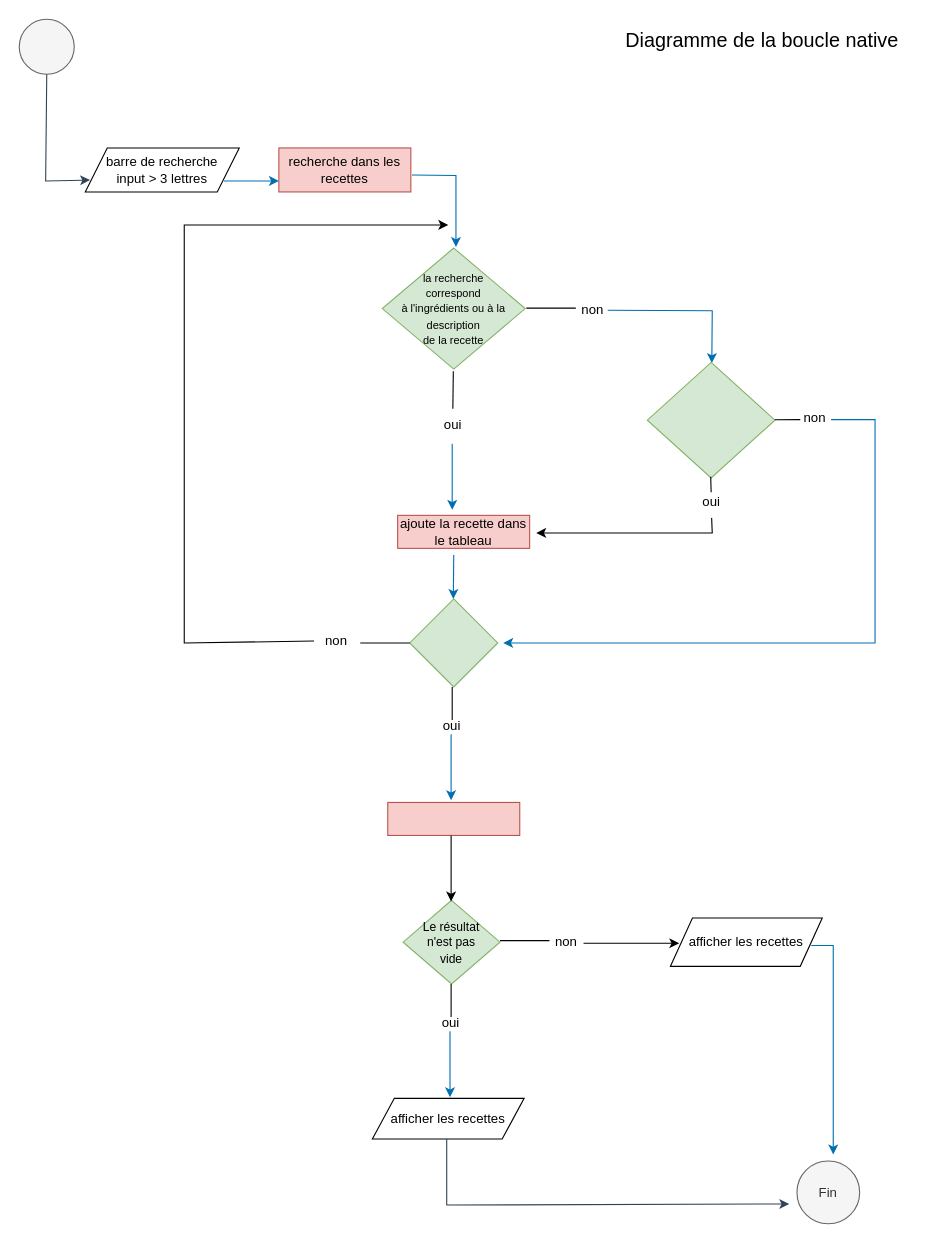
Some shapes in this 930 by 1243 pixel diagram are drawn without their labels. Here are the shapes that lost their labels. From the top down, the centre of each, then its label:
the point at 46,46: Début
the point at 710,419: la recherche est dans l'ingrédients de la recette ?
the point at 453,642: C'est la dernière recette ?
the point at 453,818: retourne le tableau
